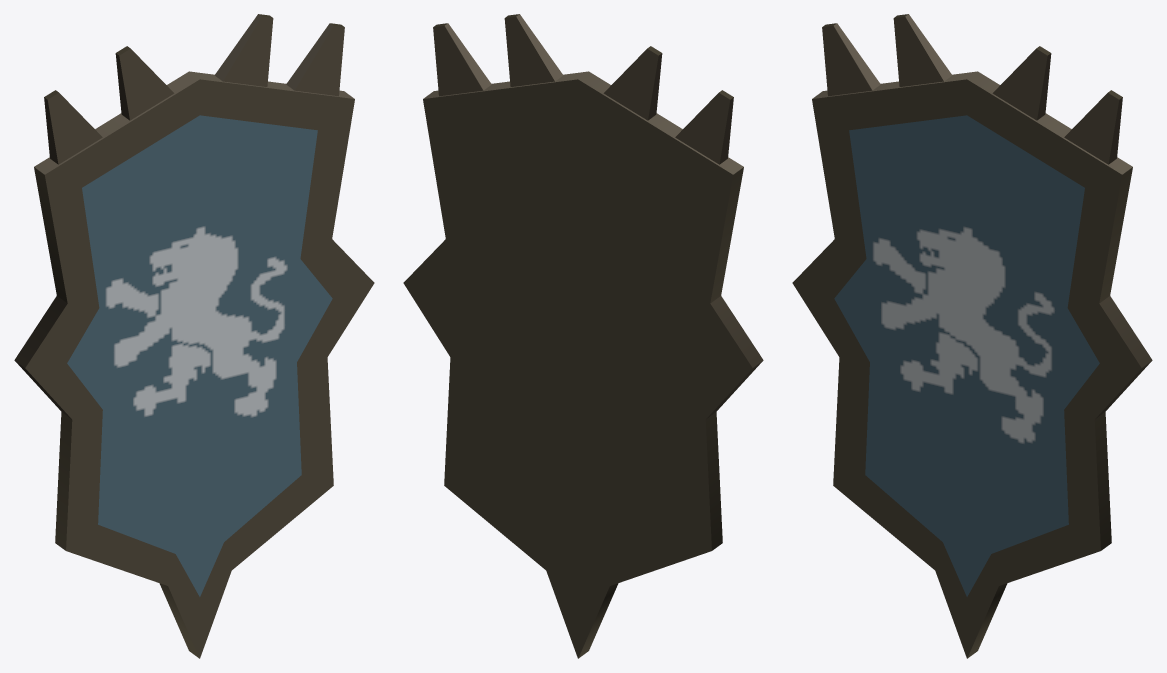
The model's file is SF_Wep_Undead_Shield_01.fbx.
3 views of the same model, side by side, from view 1: azimuth 30°, elevation 25°; view 2: azimuth 150°, elevation 25°; view 3: azimuth 330°, elevation 25° (orthographic).
Visible parts, largest first — view 1: SF_Wep_Undead_Shield_01; view 2: SF_Wep_Undead_Shield_01; view 3: SF_Wep_Undead_Shield_01.
Part boxes in pixels (left/top/right/bottom): SF_Wep_Undead_Shield_01: left=14, top=14, right=374, bottom=658; SF_Wep_Undead_Shield_01: left=403, top=14, right=763, bottom=658; SF_Wep_Undead_Shield_01: left=792, top=14, right=1152, bottom=658.
Size of the model in its own units: 1.07 by 1.82 by 0.0573.
